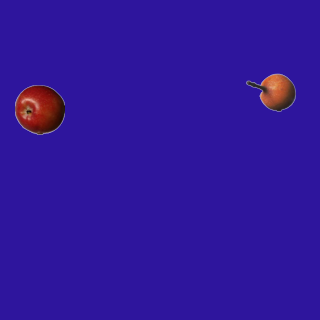Apple Braeburn: (14, 84, 64, 134)
Granadilla: (245, 67, 295, 117)
